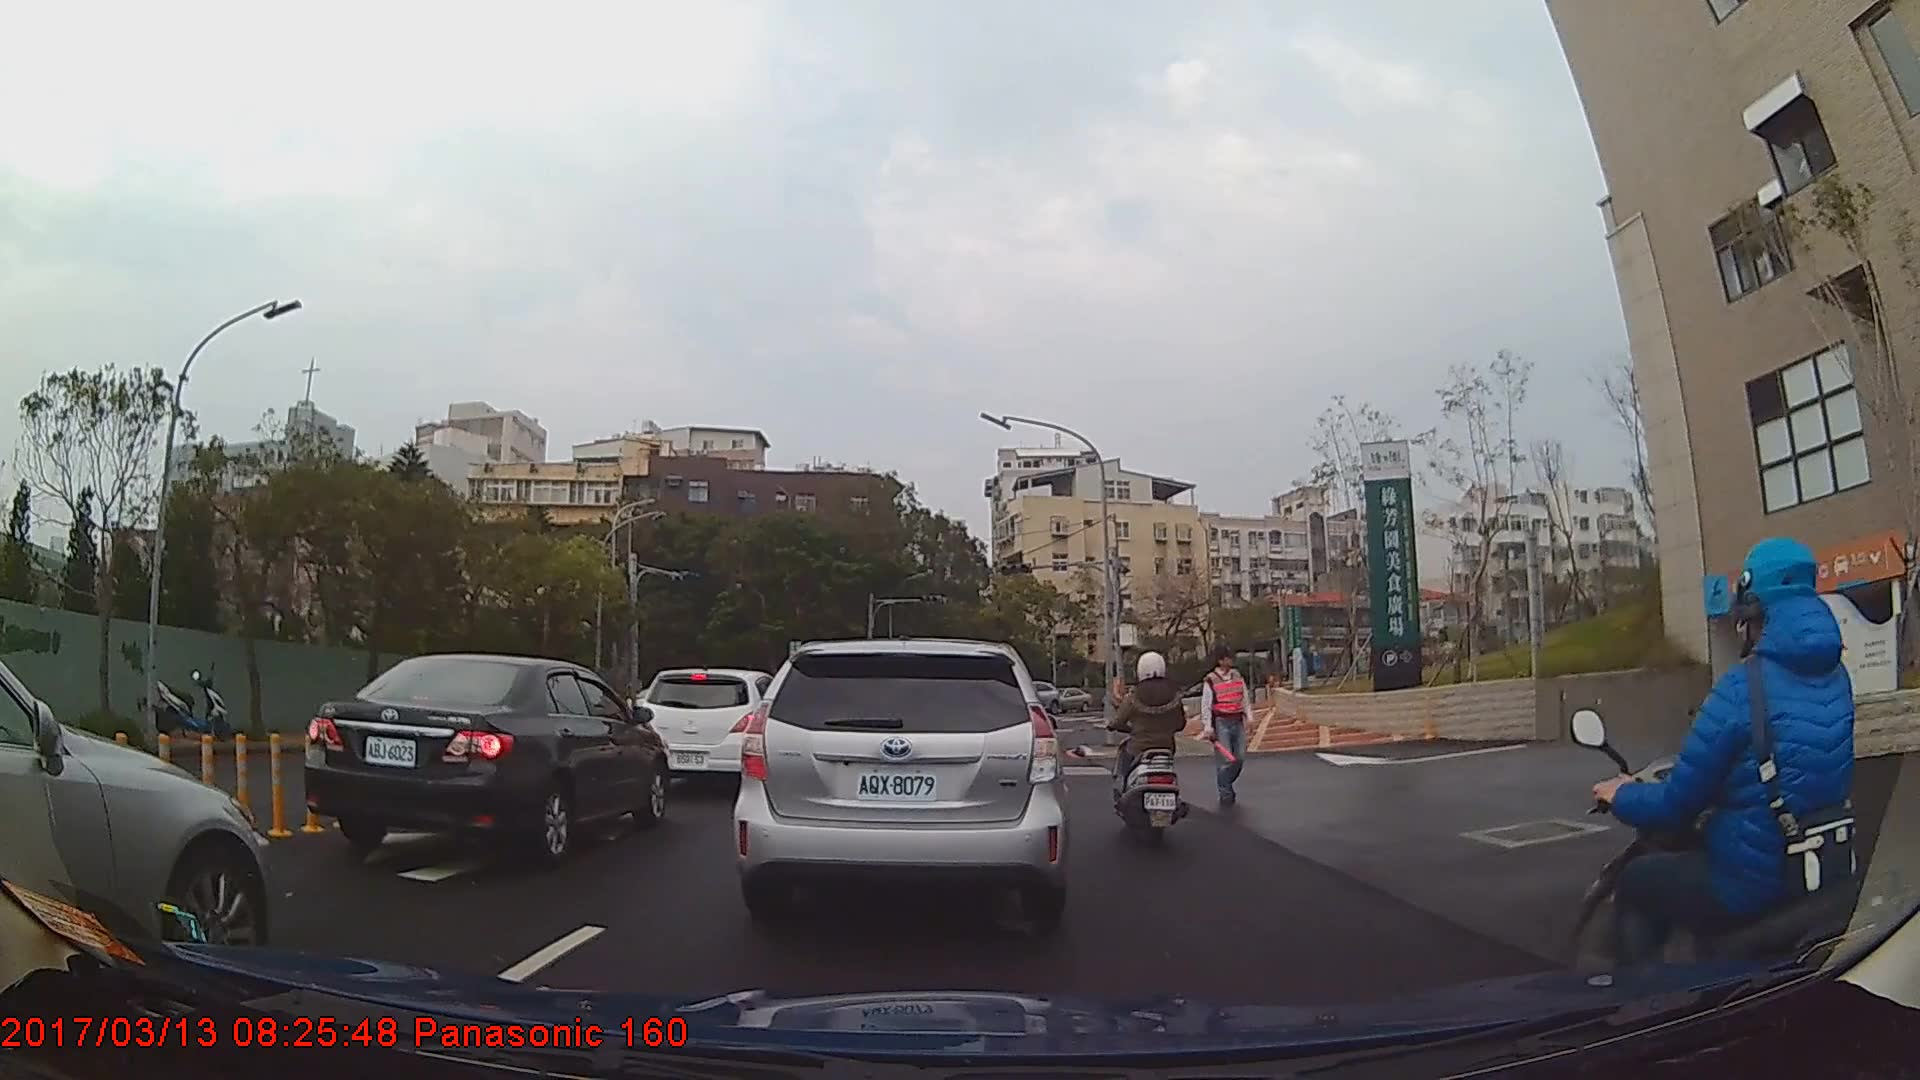pedestrian: (1203, 645, 1257, 803)
rider: (1561, 536, 1920, 1080), (1112, 651, 1191, 849)
vehicle: (732, 635, 1069, 928), (0, 654, 270, 982), (303, 652, 670, 861), (636, 667, 786, 792), (1053, 682, 1093, 711)
